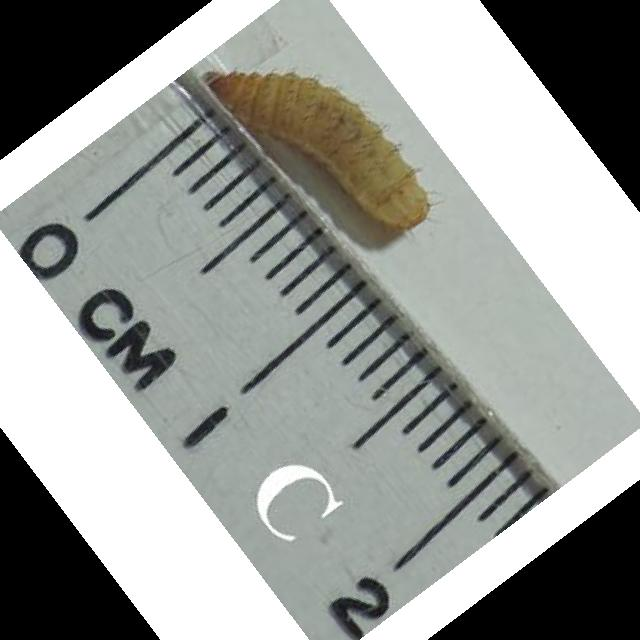Maggot: (207, 64, 434, 226)
